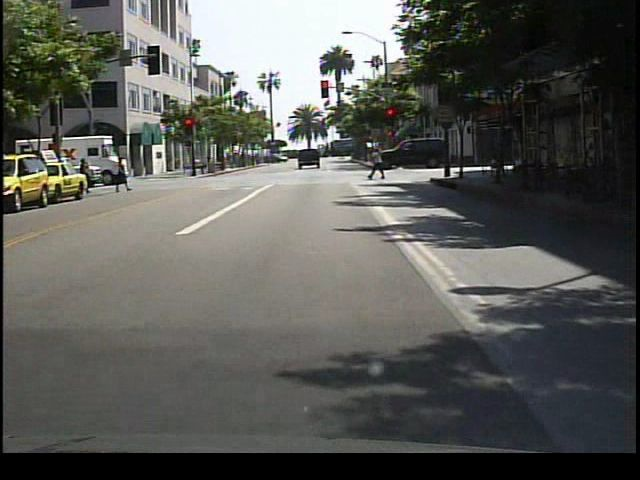person: (488, 138, 509, 184), (74, 152, 94, 194), (370, 147, 390, 182), (114, 157, 131, 195)
